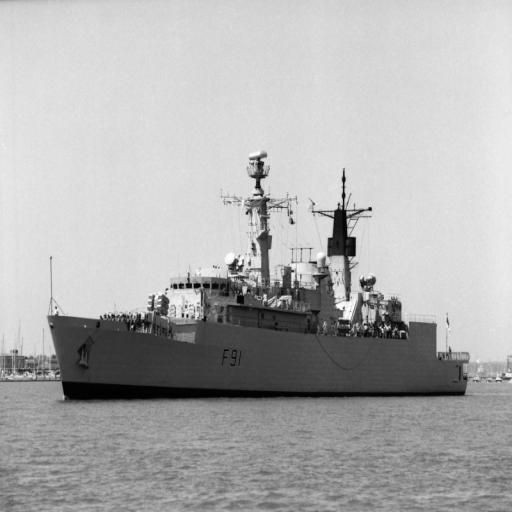Fragata: (46, 150, 478, 402)
